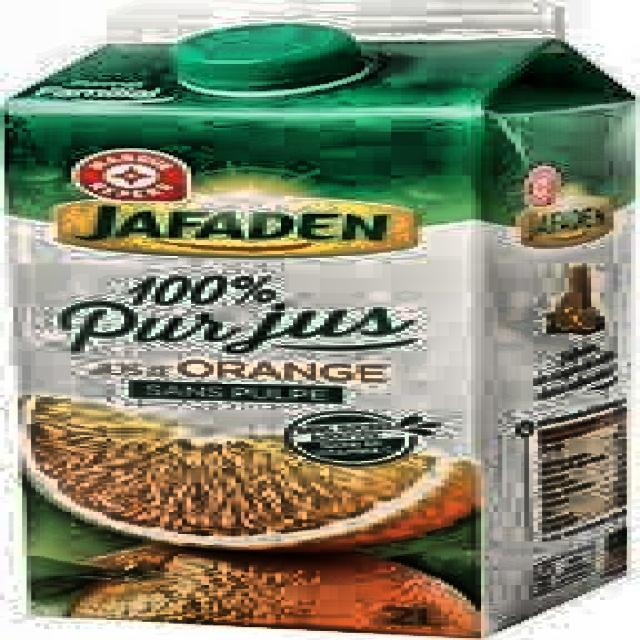cardboard: (0, 16, 636, 636)
